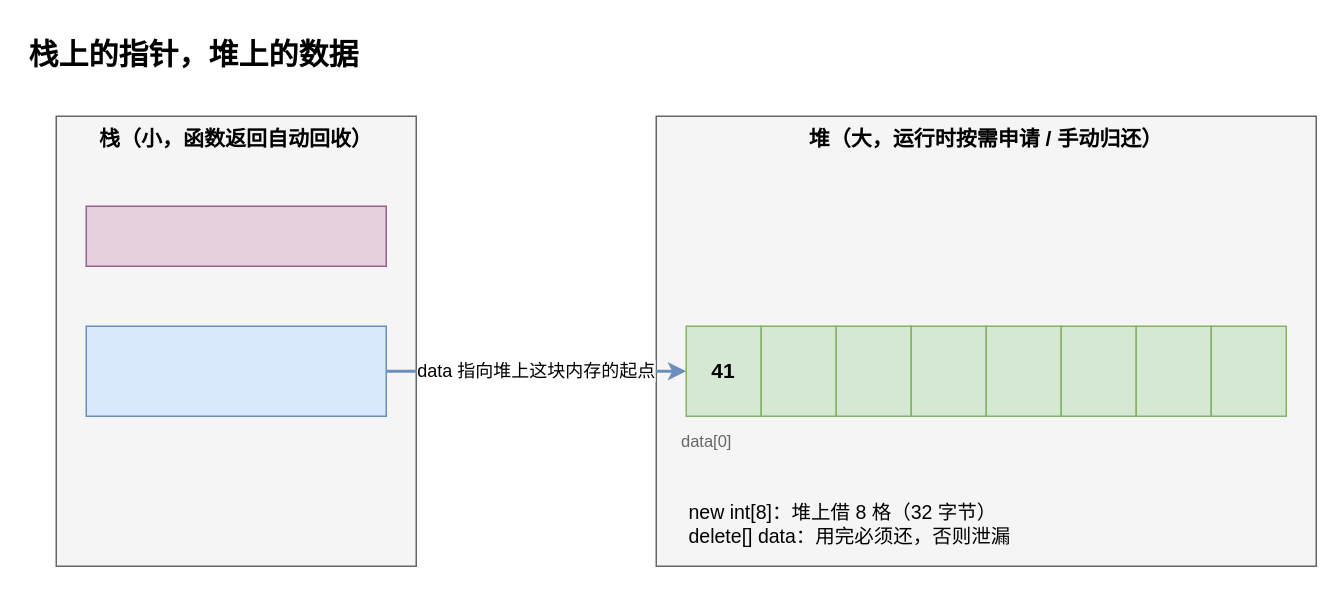
Some shapes in this 1343 by 593 pixel diagram are drawn without their labels. Here are the shapes that lost their labels. From the top down, the centre of each, then its label:
At [235,235]: "局部变量 …".
At [235,370]: "data （一个指针，8 字节）".
